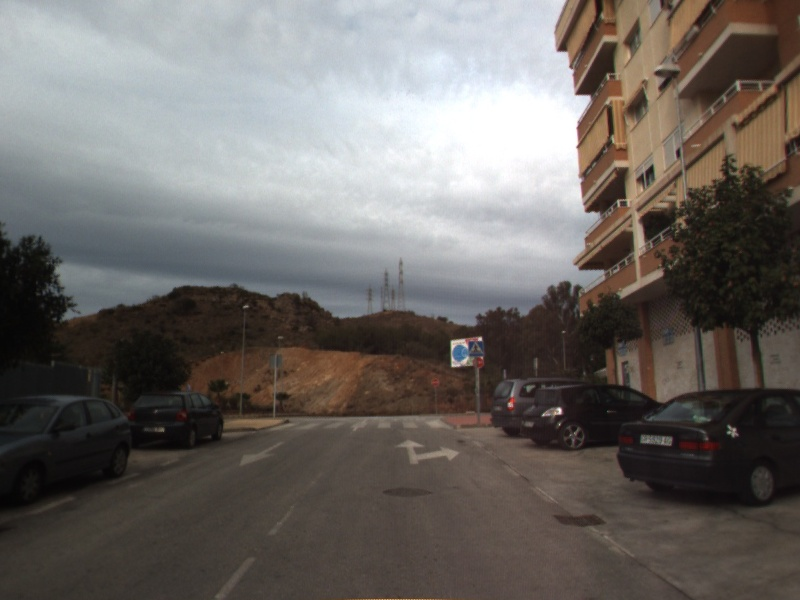STRAIGHT_RIGHT: (392, 437, 462, 466)
